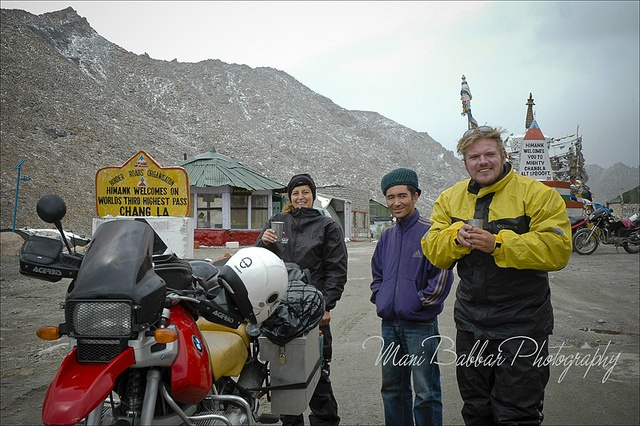non-vehicle: (12, 195, 332, 426), (572, 207, 640, 256)
